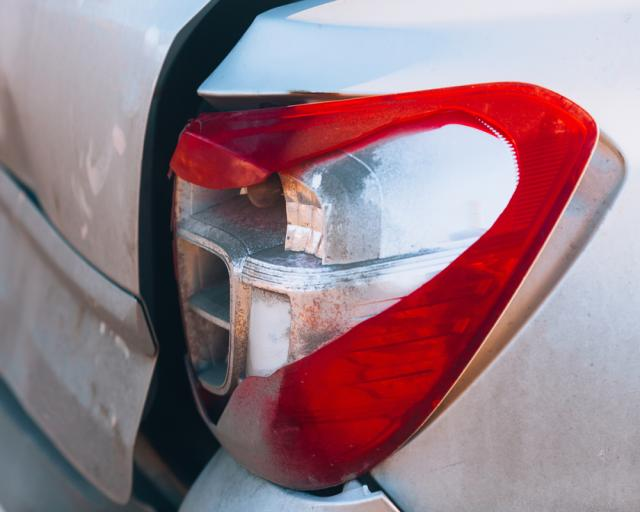lamp broken: (169, 81, 599, 490)
